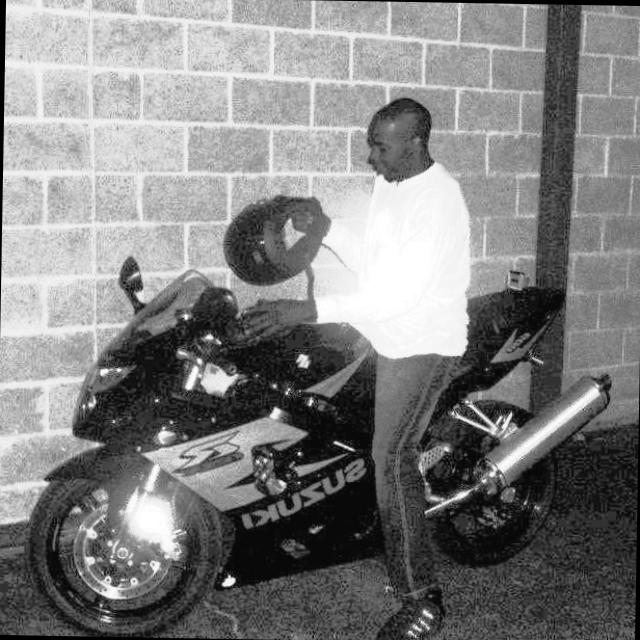Motorcycle: (19, 260, 615, 640)
